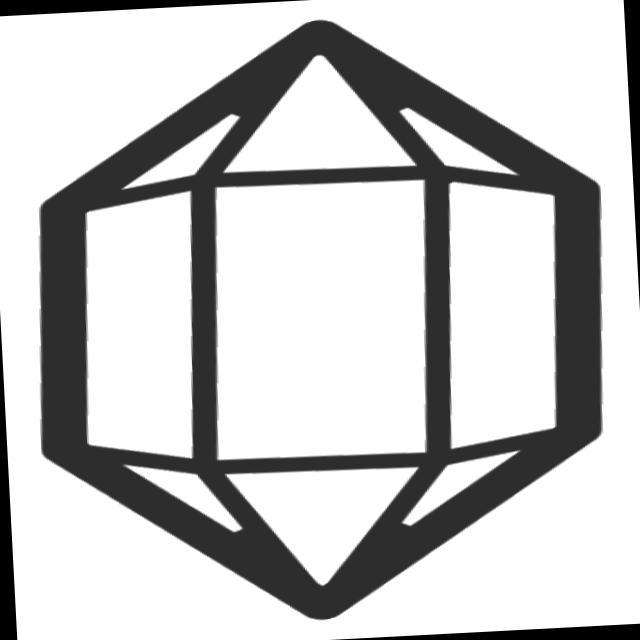crystal: (10, 1, 634, 640)
